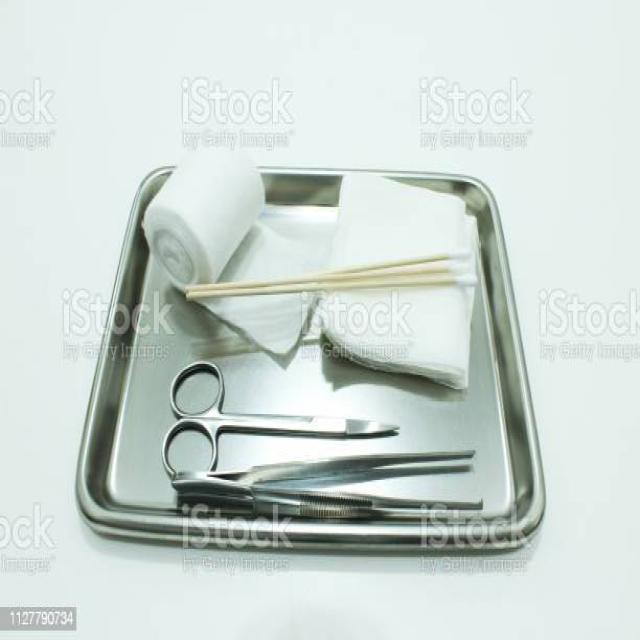B3: (149, 344, 410, 483), (139, 122, 281, 289)
